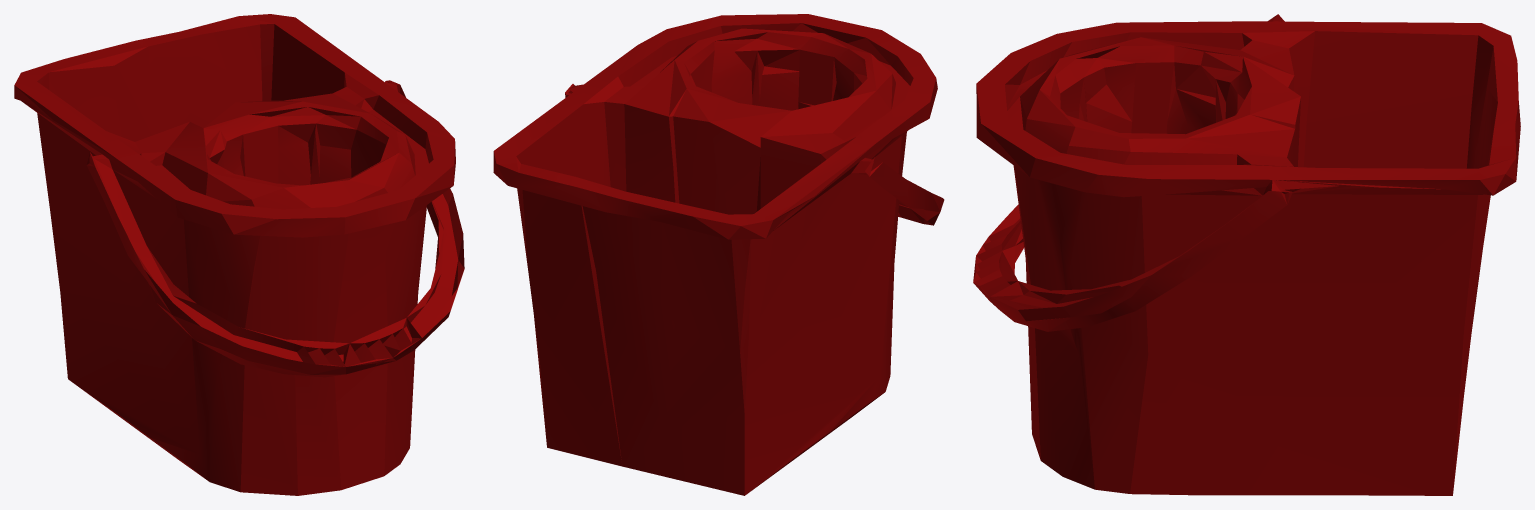
The model's file is red bucketrev.fbx.
The picture shows the model from 3 angles, left to right: view 1: azimuth 30°, elevation 25°; view 2: azimuth 150°, elevation 25°; view 3: azimuth 270°, elevation 25°; orthographic projection. The views are drawn at different scales.
Visible parts, largest first — view 1: model; view 2: model; view 3: model.
Part boxes in pixels (bbox=[...]): model: bbox=[14, 14, 464, 495]; model: bbox=[493, 14, 944, 495]; model: bbox=[973, 14, 1520, 495].
Bounding box in the file's own units: 1.41 × 1.34 × 1.89.
